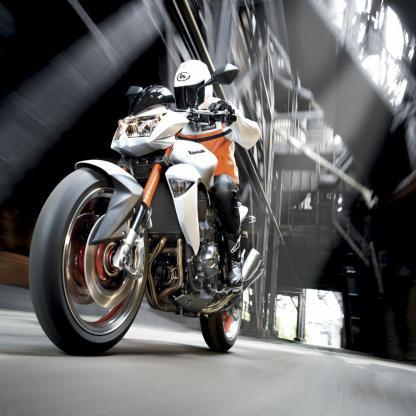Motorcycle: (21, 59, 263, 360)
